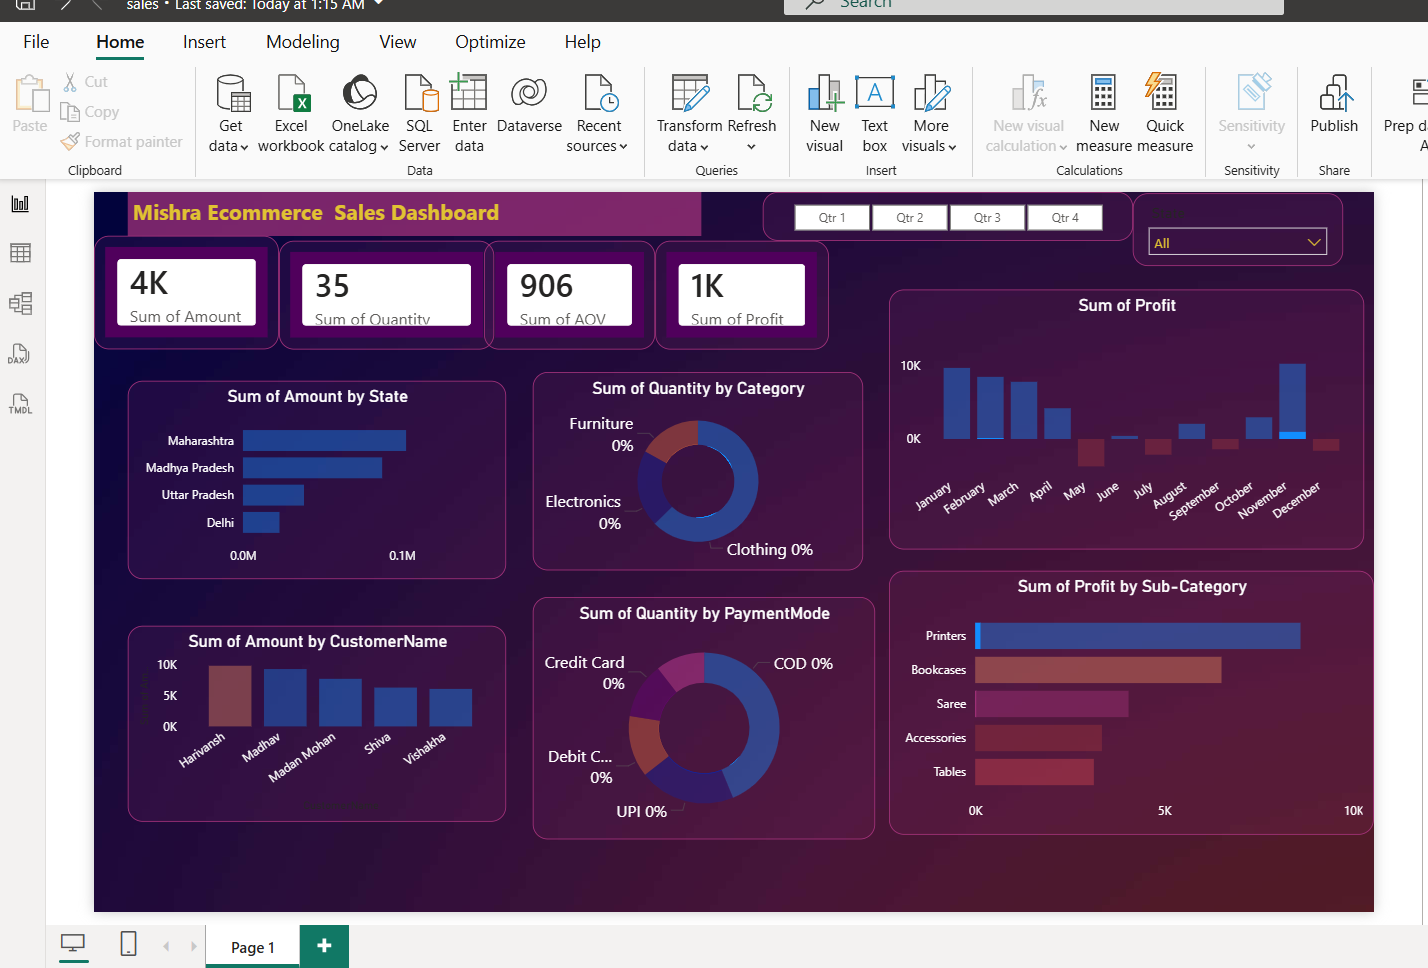

The dashboard page shown, as its layout file describes it:
{"tool":"powerbi","page":{"name":"Page 1","canvas":[1280,720],"ordinal":0},"visuals":[{"type":"clusteredColumnChart","title":"Sum of Profit ","fields":{"Category":["order.Order Date.Variation.Date Hierarchy.Month"],"Y":["Sum(details.Profit)"]},"box":[795,97.5,475,260],"z":0},{"type":"textbox","box":[33.8,0,573.8,43.8],"z":1000},{"type":"barChart","fields":{"Category":["details.Sub-Category"],"Y":["Sum(details.Profit)"]},"box":[795,378.8,485,263.8],"z":2000},{"type":"donutChart","fields":{"Y":["Sum(details.Quantity)"],"Category":["details.PaymentMode"]},"box":[438.8,405,342.5,242.5],"z":3000},{"type":"donutChart","fields":{"Category":["details.Category"],"Y":["Sum(details.Quantity)"]},"box":[438.8,180,330,198.8],"z":4000},{"type":"cardVisual","fields":{"Data":["Sum(details.Amount)"]},"box":[0,43.8,185,113.8],"z":5000},{"type":"cardVisual","fields":{"Data":["Sum(details.Quantity)"]},"box":[185,48.8,215,108.8],"z":6000},{"type":"cardVisual","fields":{"Data":["Sum(details.Profit)"]},"box":[561.2,48.8,173.8,108.8],"z":7000},{"type":"cardVisual","fields":{"Data":["Sum(details.AOV)"]},"box":[390,48.8,171.2,108.8],"z":8000},{"type":"barChart","fields":{"Category":["order.State"],"Y":["Sum(details.Amount)"]},"box":[33.8,188.8,378.8,198.8],"z":9000},{"type":"columnChart","fields":{"Category":["order.CustomerName"],"Y":["Sum(details.Amount)"]},"box":[33.8,433.8,378.8,196.2],"z":10000},{"type":"slicer","fields":{"Values":["order.Order Date.Variation.Date Hierarchy.Quarter"]},"box":[668.8,0,370,48.8],"z":11000},{"type":"slicer","fields":{"Values":["order.State"]},"box":[1038.8,1.2,210,72.5],"z":12000}]}

Visuals, with their boxes on the page's 1280x720 design canvas (x1, y1, x2, y2). These are canvas units, not pixel positions in the 1428x968 screenshot, which may show the page scaled, cropped or inside an application window:
"Sum of Profit " clusteredColumnChart: {"x1": 795, "y1": 98, "x2": 1270, "y2": 358}
textbox: {"x1": 34, "y1": 0, "x2": 608, "y2": 44}
barChart - details.Sub-Category x Sum(details.Profit): {"x1": 795, "y1": 379, "x2": 1280, "y2": 643}
donutChart - Sum(details.Quantity) x details.PaymentMode: {"x1": 439, "y1": 405, "x2": 781, "y2": 648}
donutChart - details.Category x Sum(details.Quantity): {"x1": 439, "y1": 180, "x2": 769, "y2": 379}
cardVisual - Sum(details.Amount): {"x1": 0, "y1": 44, "x2": 185, "y2": 158}
cardVisual - Sum(details.Quantity): {"x1": 185, "y1": 49, "x2": 400, "y2": 158}
cardVisual - Sum(details.Profit): {"x1": 561, "y1": 49, "x2": 735, "y2": 158}
cardVisual - Sum(details.AOV): {"x1": 390, "y1": 49, "x2": 561, "y2": 158}
barChart - order.State x Sum(details.Amount): {"x1": 34, "y1": 189, "x2": 413, "y2": 388}
columnChart - order.CustomerName x Sum(details.Amount): {"x1": 34, "y1": 434, "x2": 413, "y2": 630}
slicer - order.Order Date.Variation.Date Hierarchy.Quarter: {"x1": 669, "y1": 0, "x2": 1039, "y2": 49}
slicer - order.State: {"x1": 1039, "y1": 1, "x2": 1249, "y2": 74}
